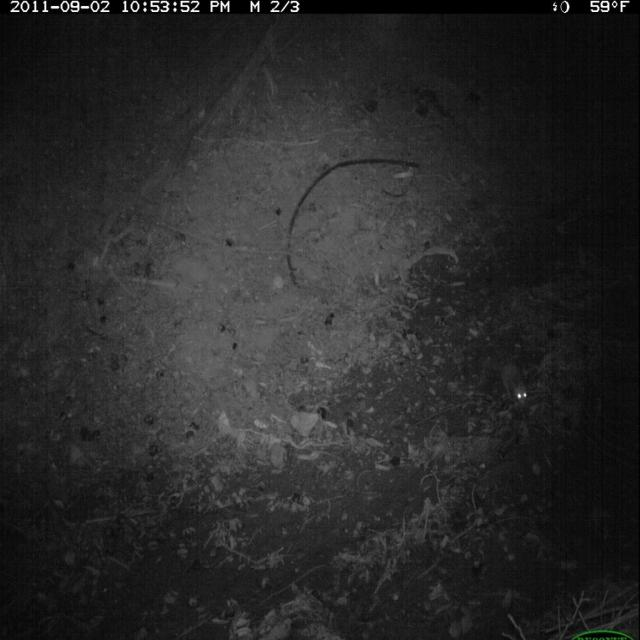opossum: (484, 350, 544, 424)
